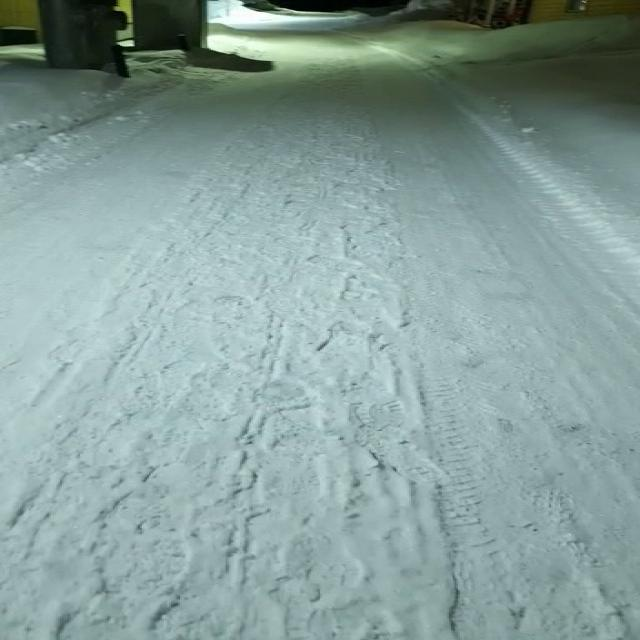path: (0, 8, 640, 640)
